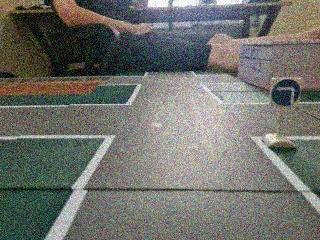left: (270, 78, 301, 108)
